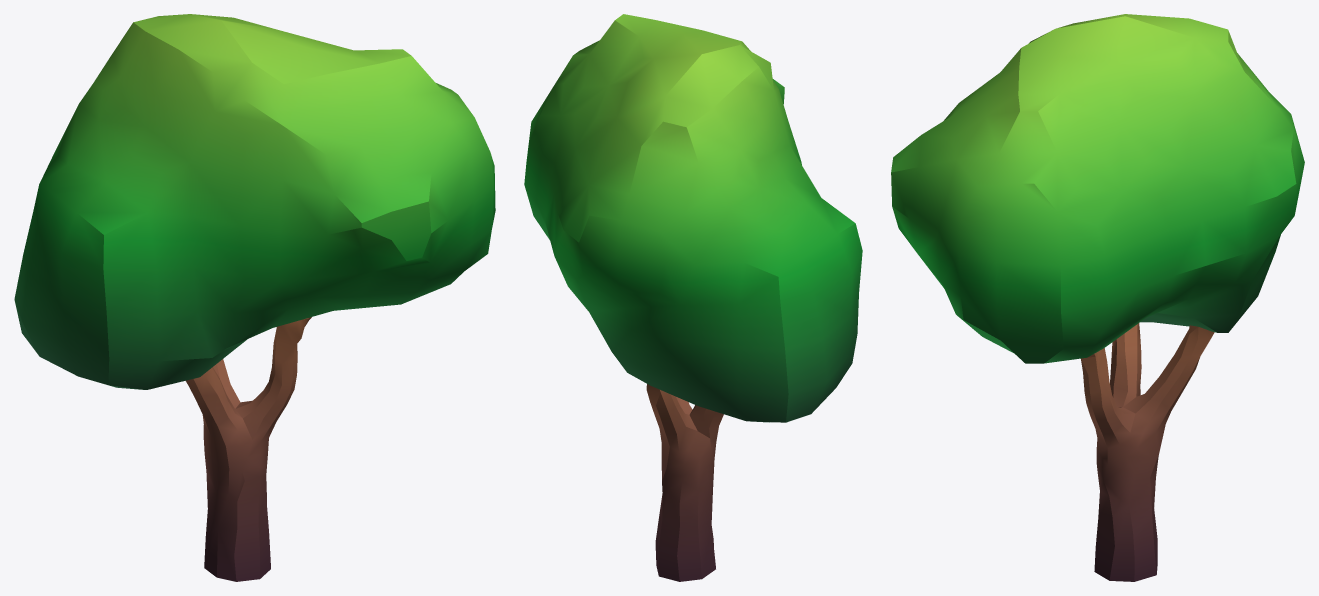
Rendered from Tree1.fbx.
The picture shows the model from 3 angles, left to right: view 1: azimuth 30°, elevation 25°; view 2: azimuth 150°, elevation 25°; view 3: azimuth 270°, elevation 25°; orthographic projection. The views are drawn at different scales.
Visible parts, largest first — view 1: Tree1; view 2: Tree1; view 3: Tree1.
Part boxes in pixels (bbox=[...]): Tree1: bbox=[14, 14, 495, 581]; Tree1: bbox=[524, 14, 862, 581]; Tree1: bbox=[891, 14, 1304, 581].
Bounding box in the file's own units: 7.34 × 10.02 × 6.9.
